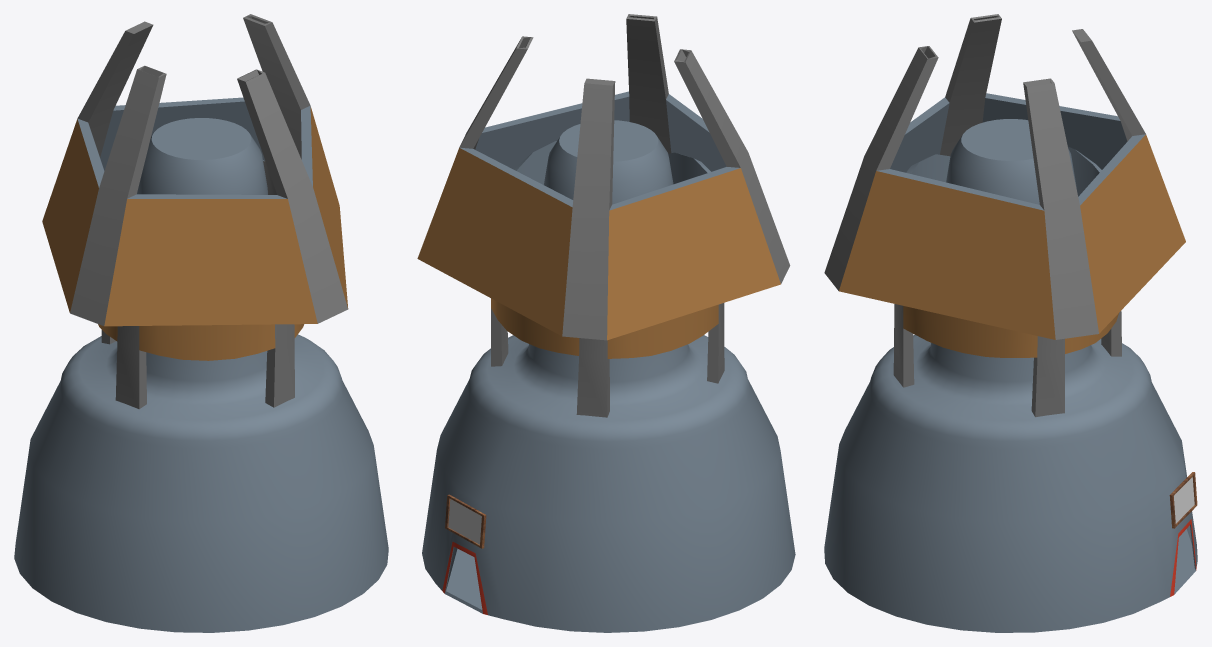
File: Market_store_exp.fbx
3 views of the same model, side by side, from view 1: azimuth 30°, elevation 25°; view 2: azimuth 150°, elevation 25°; view 3: azimuth 270°, elevation 25° (orthographic).
Parts seen in each view (by area): view 1: Cylinder.017; view 2: Cylinder.017, Plane.001; view 3: Cylinder.017, Plane.001.
Part boxes in pixels (x1,y1,x2,y2): Cylinder.017: [14, 14, 388, 632]; Cylinder.017: [417, 14, 795, 632]; Plane.001: [445, 494, 486, 548]; Cylinder.017: [824, 14, 1197, 632]; Plane.001: [1169, 472, 1197, 528].
Bounding box in the file's own units: 279 × 418 × 279.
